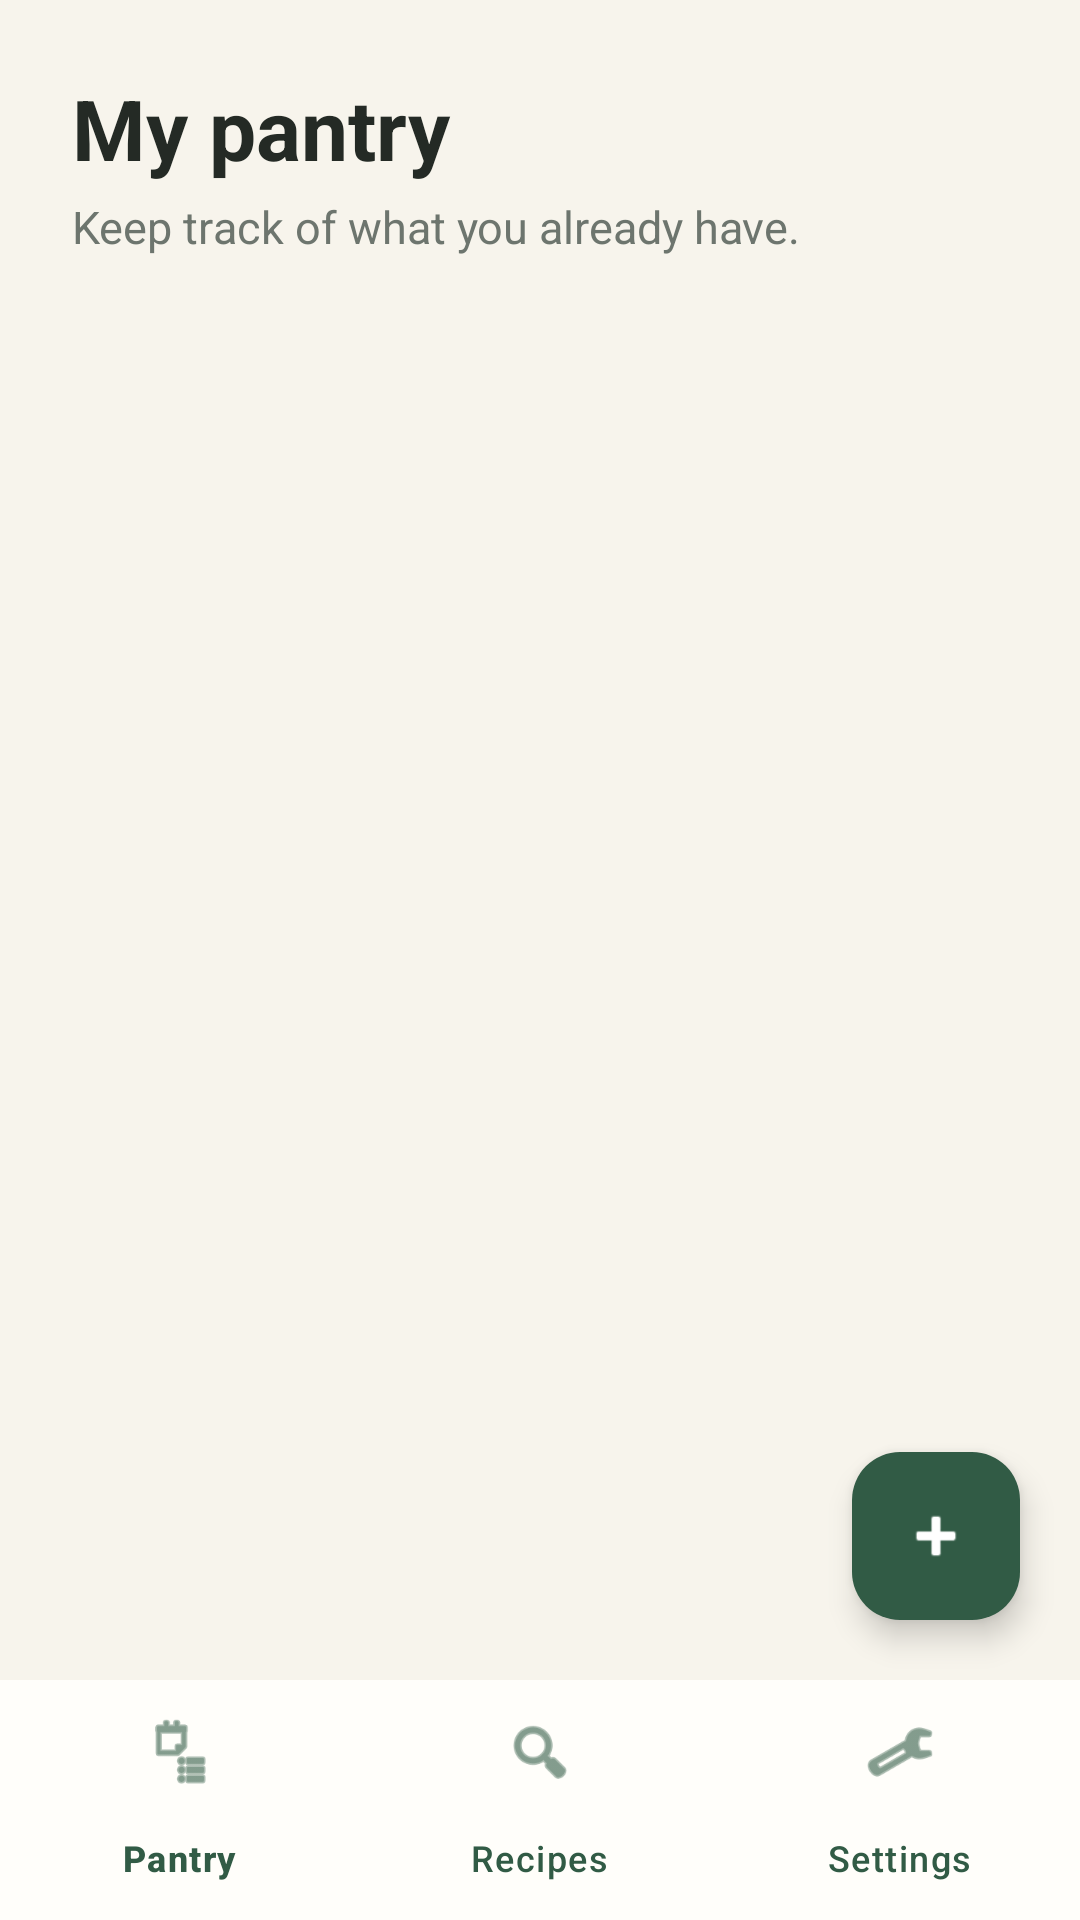

Point at icon controls on the screen. Image size 1080px x 1920px, points as [x,y].
Add pantry ingredient: [936,1536]
